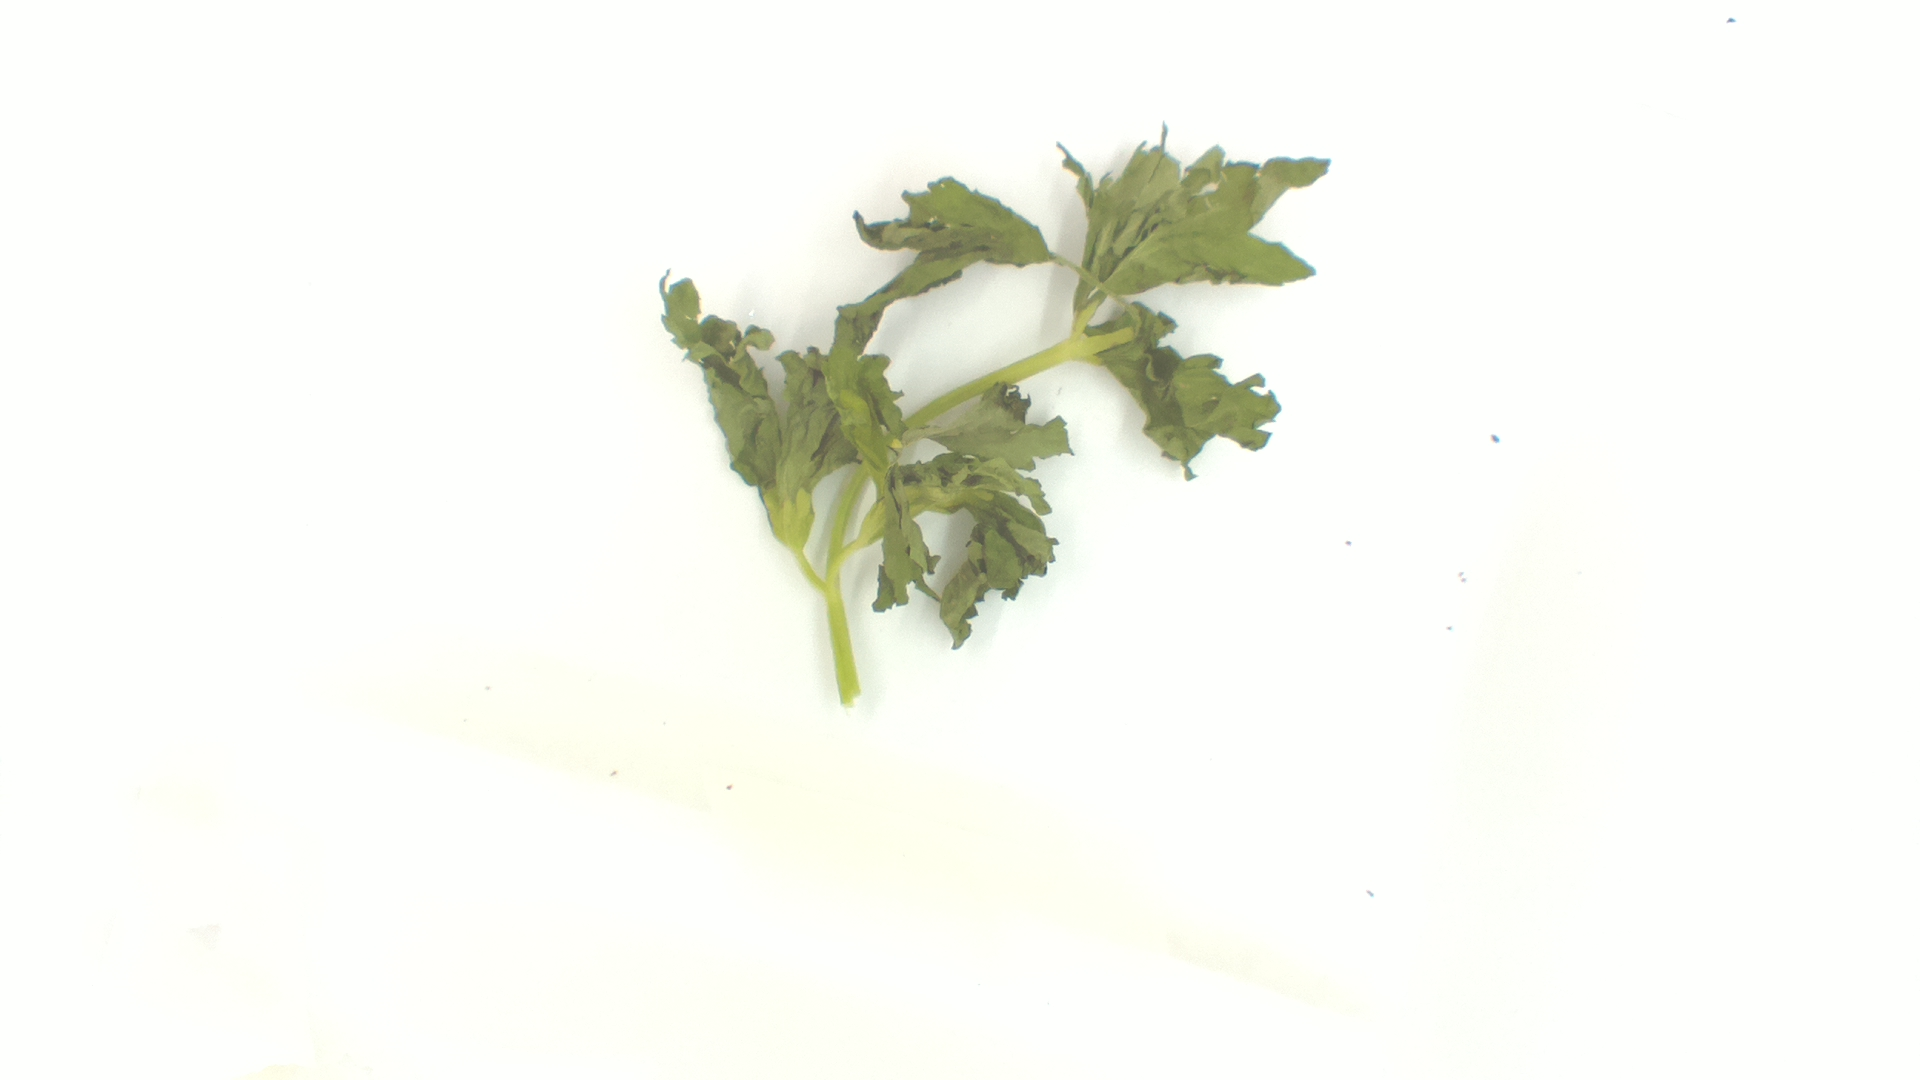vegetable: (655, 128, 1336, 712)
